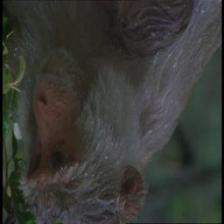monkey: (7, 32, 151, 223)
